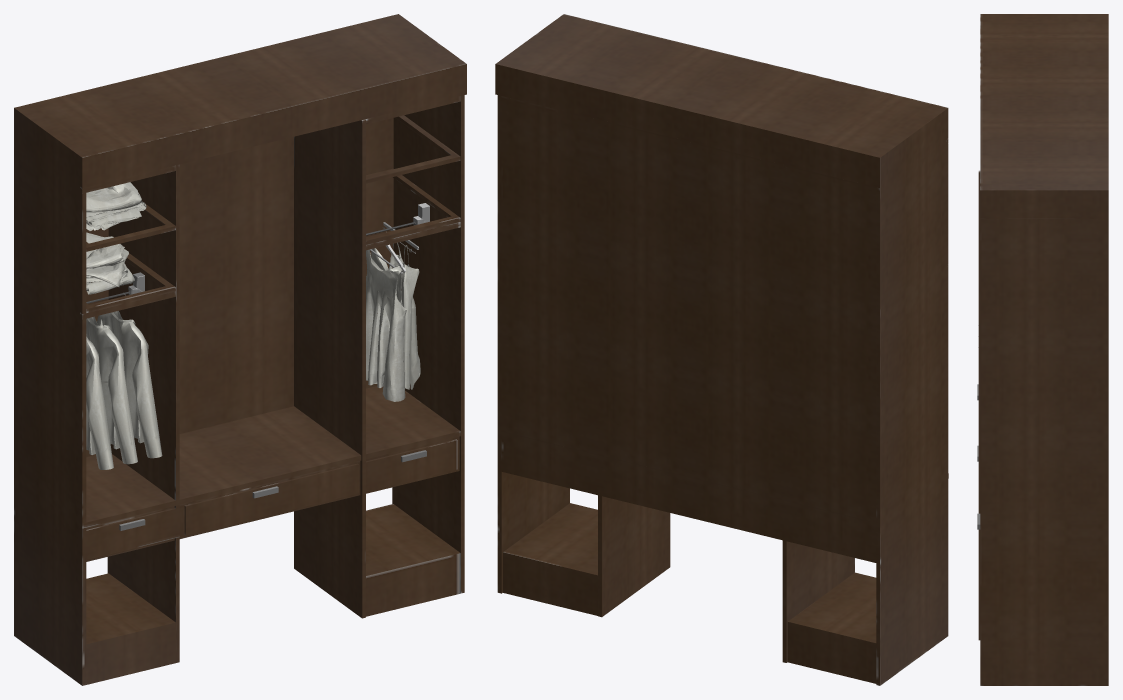
Rendered from raw_model.obj.
The picture shows the model from 3 angles, left to right: view 1: azimuth 30°, elevation 25°; view 2: azimuth 150°, elevation 25°; view 3: azimuth 270°, elevation 25°; orthographic projection. The views are drawn at different scales.
Parts seen in each view (by area): view 1: solid_001, solid_004; view 2: solid_001; view 3: solid_001.
Part boxes in pixels (x1=…): solid_001: x1=14, y1=14, x2=466, y2=685; solid_004: x1=86, y1=182, x2=420, y2=469; solid_001: x1=495, y1=14, x2=948, y2=685; solid_001: x1=978, y1=14, x2=1108, y2=685.
Bounding box in the file's own units: 1.98 × 2.6 × 0.6248.
1 material, 1 textured.
